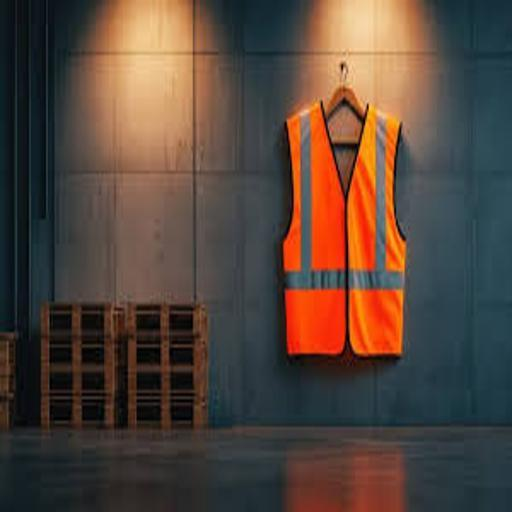Vest: (272, 94, 414, 368)
